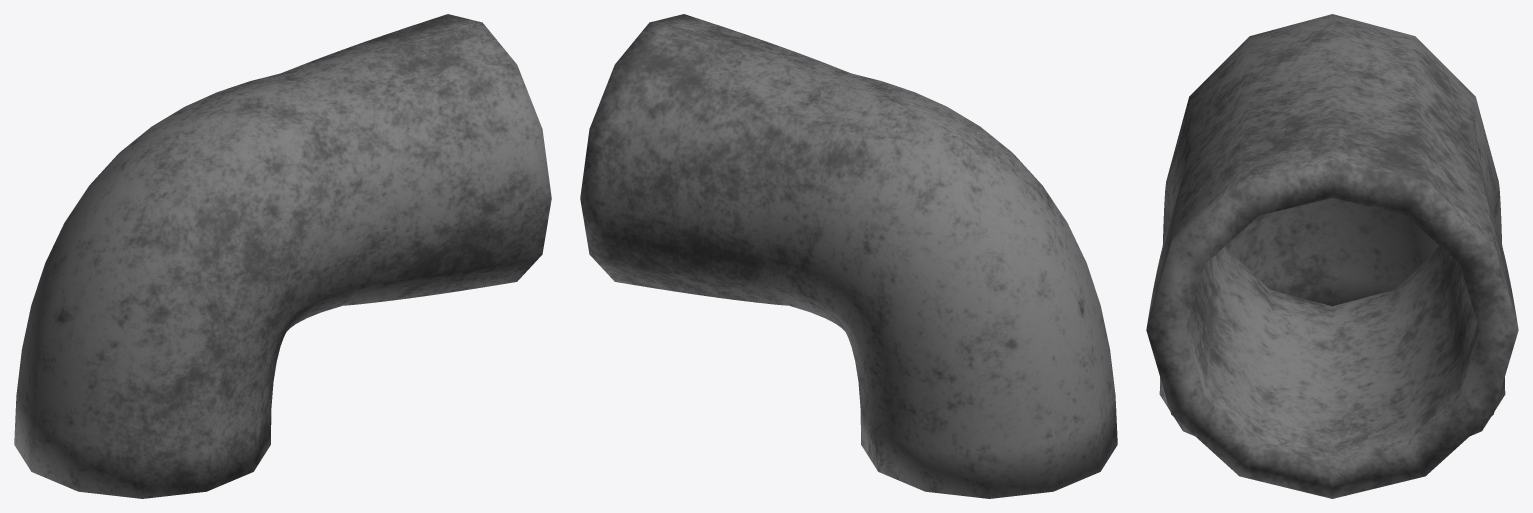
The model's file is turboBig-blowoff-valve-tube.fbx.
3 views of the same model, side by side, from view 1: azimuth 30°, elevation 25°; view 2: azimuth 150°, elevation 25°; view 3: azimuth 270°, elevation 25° (orthographic). The views are drawn at different scales.
Parts seen in each view (by area): view 1: turboBig-blowoff-valve-tube; view 2: turboBig-blowoff-valve-tube; view 3: turboBig-blowoff-valve-tube.
Part boxes in pixels (x1,y1,x2,y2): turboBig-blowoff-valve-tube: [14, 14, 551, 498]; turboBig-blowoff-valve-tube: [580, 14, 1117, 498]; turboBig-blowoff-valve-tube: [1146, 14, 1518, 498].
Size of the model in its own units: 5.43 by 3.9 by 2.87.
